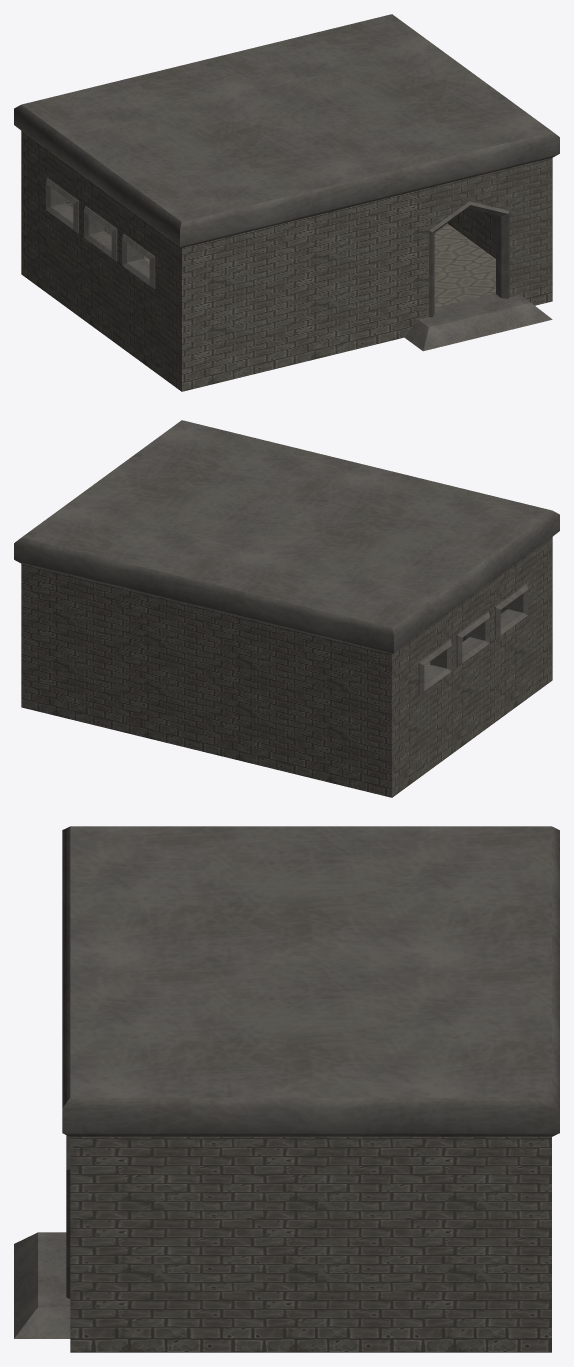
The model's file is Ruins_Building_02col.fbx.
3 renders of one model, top to bottom at view 1: azimuth 30°, elevation 25°; view 2: azimuth 150°, elevation 25°; view 3: azimuth 270°, elevation 25°, orthographic. The views are drawn at different scales.
Visible parts, largest first — view 1: Ruins_Building_02Col; view 2: Ruins_Building_02Col; view 3: Ruins_Building_02Col.
Boxes of the visible parts, x1,y1,x2,y2 form: Ruins_Building_02Col: [14, 14, 559, 391]; Ruins_Building_02Col: [14, 420, 559, 797]; Ruins_Building_02Col: [14, 826, 559, 1352].
Bounding box in the file's own units: 82 × 35 × 68.
